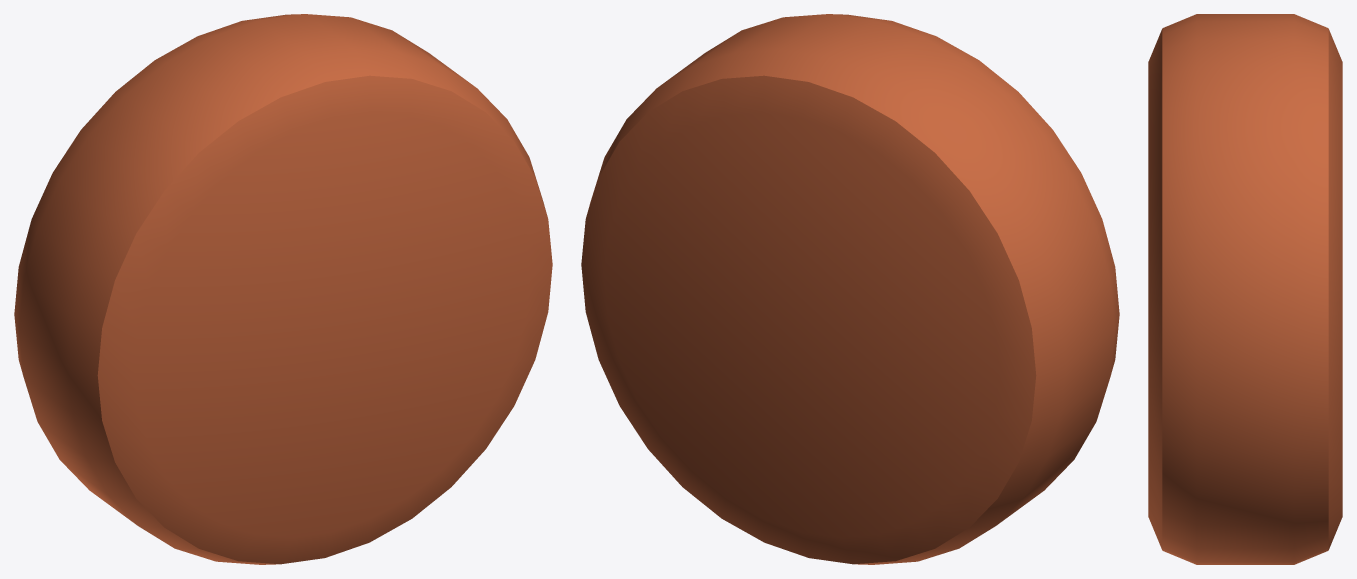
The model's file is riveting_machine_left_button.glb.
The picture shows the model from 3 angles, left to right: view 1: azimuth 30°, elevation 25°; view 2: azimuth 150°, elevation 25°; view 3: azimuth 270°, elevation 25°; orthographic projection.
Parts seen in each view (by area): view 1: riveting_machine_left_button; view 2: riveting_machine_left_button; view 3: riveting_machine_left_button.
Boxes of the visible parts, x1,y1,x2,y2 form: riveting_machine_left_button: (14, 14, 552, 564); riveting_machine_left_button: (581, 14, 1119, 564); riveting_machine_left_button: (1148, 14, 1342, 564).
Size of the model in its own units: 0.034 by 0.034 by 0.012.
